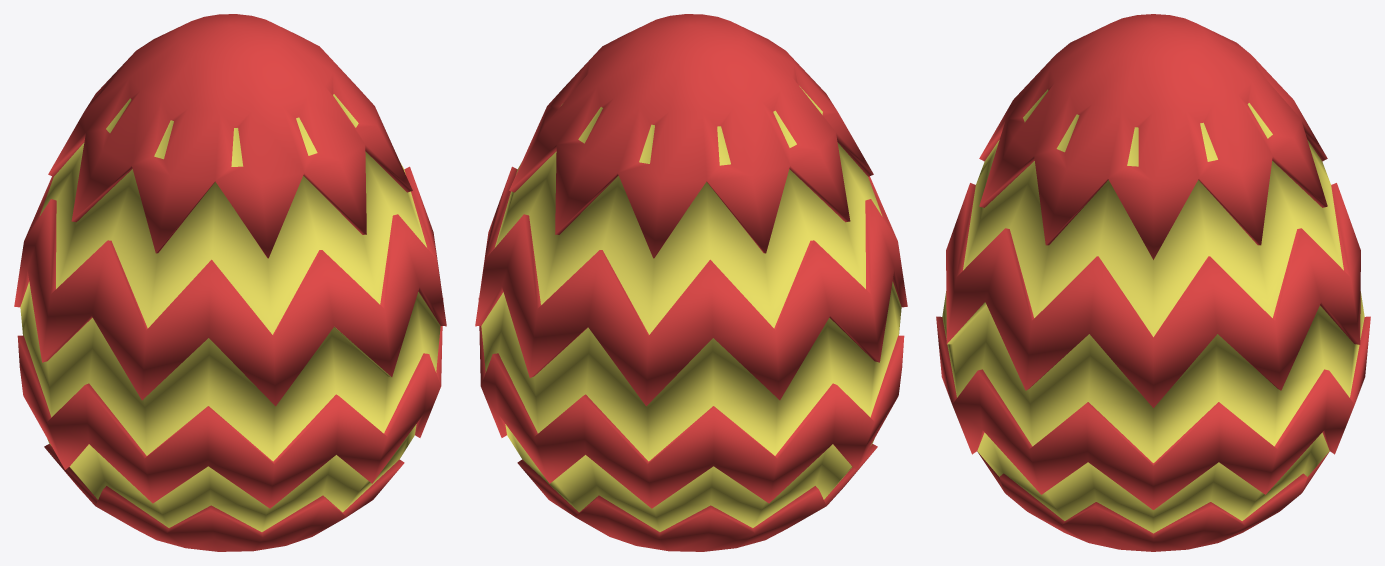
File: egg_zig_zag.gltf
3 renders of one model, left to right at view 1: azimuth 30°, elevation 25°; view 2: azimuth 150°, elevation 25°; view 3: azimuth 270°, elevation 25°, orthographic.
Visible parts, largest first — view 1: Egg Zigzag; view 2: Egg Zigzag; view 3: Egg Zigzag.
Part boxes in pixels (left/top/right/bottom): Egg Zigzag: left=14, top=14, right=446, bottom=551; Egg Zigzag: left=475, top=14, right=907, bottom=551; Egg Zigzag: left=936, top=14, right=1370, bottom=551.
Size of the model in its own units: 1.4 by 1.8 by 1.4.
